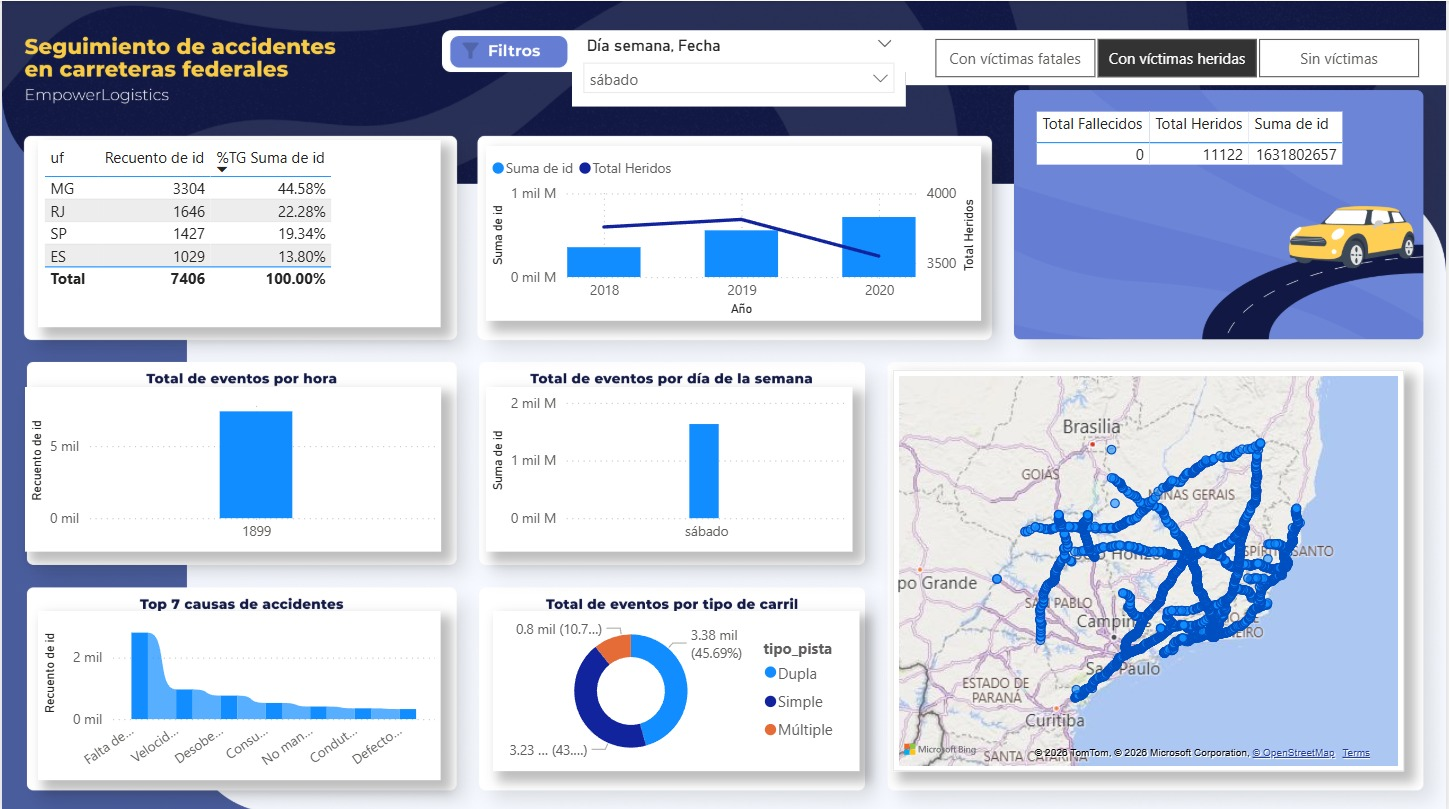

This screenshot's page, from the dashboard's own definition file:
{"tool":"powerbi","page":{"name":"Página 1","canvas":[1280,720],"ordinal":0},"visuals":[{"type":"map","fields":{"Y":["registro_acidente.latitude"],"X":["registro_acidente.longitude"]},"box":[790,327.2,453.1,355.6],"z":0},{"type":"ribbonChart","fields":{"Category":["registro_acidente.Día semana"],"Y":["Sum(registro_acidente.id)"]},"box":[429.2,342.3,324.5,146.3],"z":1000},{"type":"lineStackedColumnComboChart","fields":{"Category":["registro_acidente.hora.Variación.Jerarquía de fechas.Año","registro_acidente.hora.Variación.Jerarquía de fechas.Trimestre","registro_acidente.hora.Variación.Jerarquía de fechas.Mes","registro_acidente.hora.Variación.Jerarquía de fechas.Día"],"Y":["CountNonNull(registro_acidente.id)"]},"box":[20.4,342.3,368.9,146.3],"z":2000},{"type":"ribbonChart","fields":{"Category":["registro_acidente.causa_accidente"],"Y":["CountNonNull(registro_acidente.id)"]},"box":[31.9,540.9,357.3,149.9],"z":3000},{"type":"lineStackedColumnComboChart","fields":{"Category":["registro_acidente.Fecha.Variación.Jerarquía de fechas.Año","registro_acidente.Fecha.Variación.Jerarquía de fechas.Trimestre","registro_acidente.Fecha.Variación.Jerarquía de fechas.Mes","registro_acidente.Fecha.Variación.Jerarquía de fechas.Día"],"Y":["Sum(registro_acidente.id)"],"Y2":["registro_acidente.Total Heridos"]},"box":[429.2,128.6,438.9,155.2],"z":4000},{"type":"donutChart","fields":{"Category":["registro_acidente.tipo_pista"],"Y":["CountNonNull(registro_acidente.id)"]},"box":[435.4,540.9,324.5,141.9],"z":5000},{"type":"slicer","fields":{"Values":["registro_acidente.Día semana","registro_acidente.Fecha"]},"box":[505.4,26.6,296.2,66.5],"z":6000},{"type":"tableEx","fields":{"Values":["registro_acidente.uf","CountNonNull(registro_acidente.id)","Sum(registro_acidente.id)1"]},"box":[31.9,123.3,357.3,165.8],"z":7000},{"type":"slicer","fields":{"Values":["registro_acidente.clasificación_accidente"]},"box":[801.6,26.6,478.8,47.9],"z":8000},{"type":"tableEx","fields":{"Values":["registro_acidente.Total Fallecidos","registro_acidente.Total Heridos","Sum(registro_acidente.id)"]},"box":[911.5,93.1,285.5,79.8],"z":9000}]}

Visuals, with their boxes in screenshot pixels (x1, y1, x2, y2), scaled from the page's 1280x720 canvas onto the 1449x809 screenshot:
map - registro_acidente.latitude x registro_acidente.longitude: rect(894, 368, 1407, 767)
ribbonChart - registro_acidente.Día semana x Sum(registro_acidente.id): rect(486, 385, 853, 549)
lineStackedColumnComboChart - registro_acidente.hora.Variación.Jerarquía de fechas.Año x registro_acidente.hora.Variación.Jerarquía de fechas.Trimestre: rect(23, 385, 441, 549)
ribbonChart - registro_acidente.causa_accidente x CountNonNull(registro_acidente.id): rect(36, 608, 441, 776)
lineStackedColumnComboChart - registro_acidente.Fecha.Variación.Jerarquía de fechas.Año x registro_acidente.Fecha.Variación.Jerarquía de fechas.Trimestre: rect(486, 144, 983, 319)
donutChart - registro_acidente.tipo_pista x CountNonNull(registro_acidente.id): rect(493, 608, 860, 767)
slicer - registro_acidente.Día semana x registro_acidente.Fecha: rect(572, 30, 907, 105)
tableEx - registro_acidente.uf x CountNonNull(registro_acidente.id): rect(36, 139, 441, 325)
slicer - registro_acidente.clasificación_accidente: rect(907, 30, 1448, 84)
tableEx - registro_acidente.Total Fallecidos x registro_acidente.Total Heridos: rect(1032, 105, 1355, 194)
